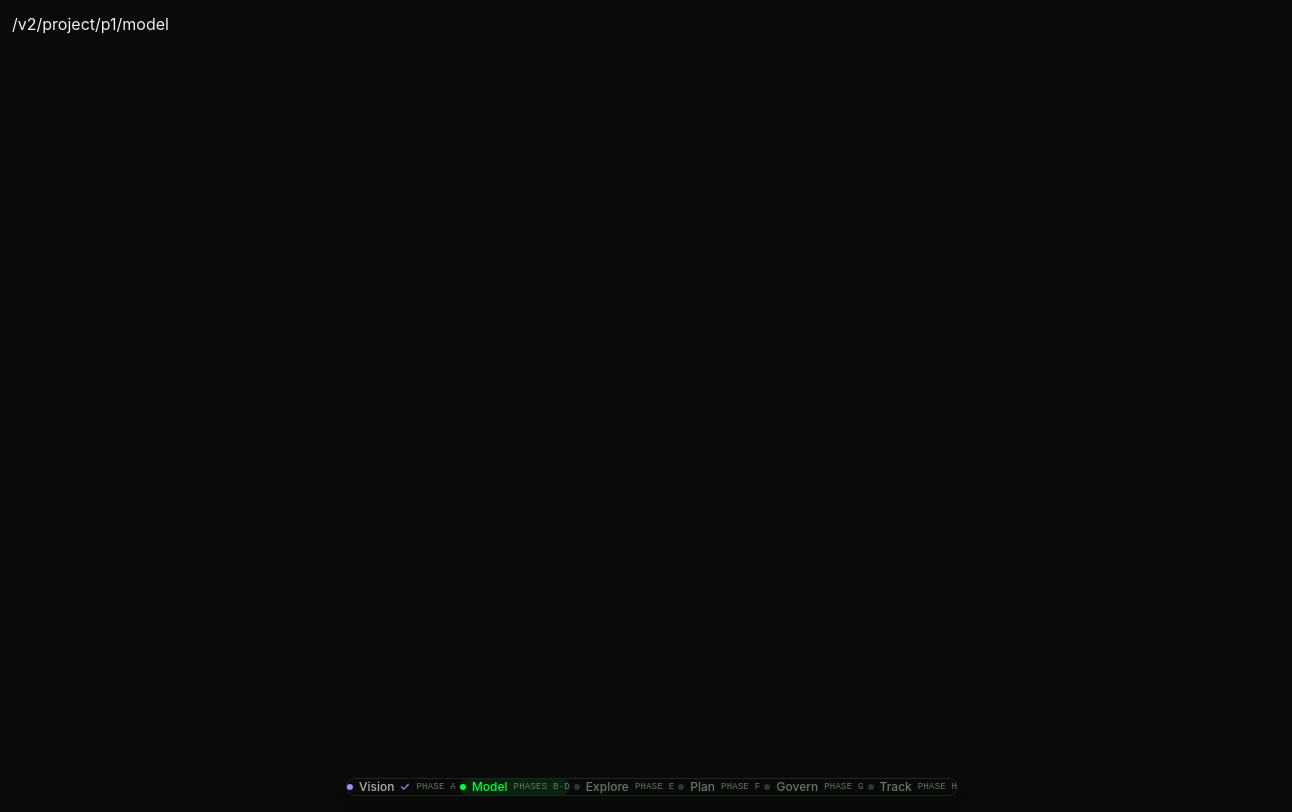
Test case: StationRail (ADR-0005 AC-3) › free jumping: every station is clickable, even undone ones (no lock)
Click the button "Track Phase H" at (912, 787), box x1=868 y1=779 x2=957 y2=795
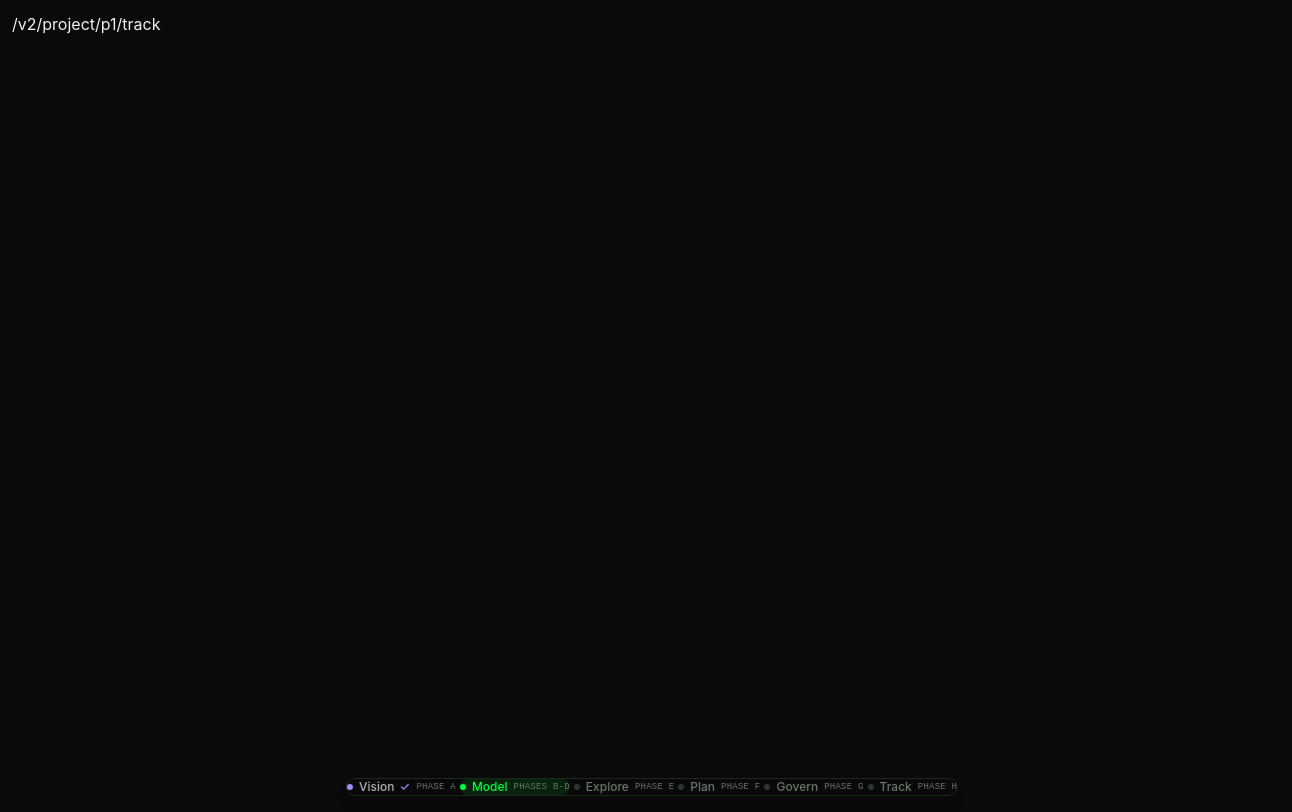
Expected: the text with test id "loc" reads "/v2/project/p1/track", x1=12 y1=14 x2=160 y2=34
